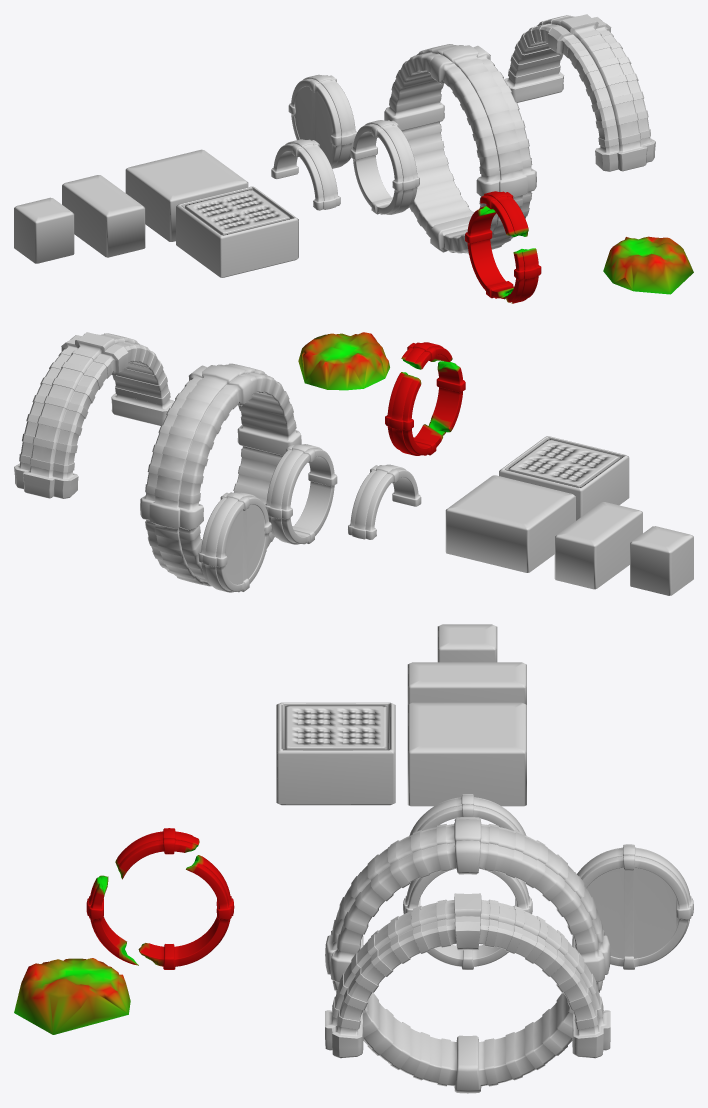
File: golemplains props.fbx
3 views of the same model, one above another, from view 1: azimuth 30°, elevation 25°; view 2: azimuth 150°, elevation 25°; view 3: azimuth 270°, elevation 25° (orthographic). The views are drawn at different scales.
Parts seen in each view (by area): view 1: GPRuinRing2, GPRuinRing2Half_LOD0, GPRuinGrate, GPRuinBlockFull, GPRuinBlockHalf, GPRuinRing1, GPRuinCircle1, GPMeshBlender1, GPRuinBlockQuarter, GPRuinRing1Half, GPRuinRing1Shattered2, GPRuinRing1Shattered3 (+1 smaller); view 2: GPRuinRing2, GPRuinRing2Half_LOD0, GPRuinBlockFull, GPRuinGrate, GPRuinCircle1, GPRuinBlockHalf, GPRuinRing1, GPMeshBlender1, GPRuinBlockQuarter, GPRuinRing1Half, GPRuinRing1Shattered2, GPRuinRing1Shattered3 (+1 smaller); view 3: GPRuinRing2, GPRuinRing2Half_LOD0, GPRuinGrate, GPRuinBlockFull, GPRuinCircle1, GPMeshBlender1, GPRuinBlockHalf, GPRuinRing1Shattered2, GPRuinRing1, GPRuinBlockQuarter, GPRuinRing1Half, GPRuinRing1Shattered1 (+1 smaller).
Boxes of the visible parts, x1,y1,x2,y2 form: GPRuinRing2: (384, 44, 536, 254); GPRuinRing2Half_LOD0: (504, 14, 655, 171); GPRuinGrate: (176, 186, 298, 277); GPRuinBlockFull: (125, 149, 248, 241); GPRuinBlockHalf: (62, 175, 145, 257); GPRuinRing1: (350, 120, 419, 214); GPRuinCircle1: (288, 74, 357, 168); GPMeshBlender1: (603, 236, 693, 294); GPRuinBlockQuarter: (14, 197, 74, 263); GPRuinRing1Half: (271, 139, 340, 210); GPRuinRing1Shattered2: (465, 206, 514, 299); GPRuinRing1Shattered3: (506, 248, 541, 303); GPRuinRing2: (140, 363, 301, 586); GPRuinRing2Half_LOD0: (14, 332, 174, 498); GPRuinBlockFull: (445, 475, 575, 572); GPRuinGrate: (499, 436, 629, 520); GPRuinCircle1: (198, 492, 271, 592); GPRuinBlockHalf: (554, 502, 642, 589); GPRuinRing1: (265, 444, 337, 544); GPMeshBlender1: (298, 332, 389, 390); GPRuinBlockQuarter: (630, 526, 693, 595); GPRuinRing1Half: (348, 464, 421, 539); GPRuinRing1Shattered2: (385, 372, 442, 455); GPRuinRing1Shattered3: (428, 361, 465, 435); GPRuinRing2: (325, 817, 610, 1093); GPRuinRing2Half_LOD0: (325, 893, 610, 1058); GPRuinGrate: (276, 702, 395, 805); GPRuinBlockFull: (407, 702, 526, 806); GPRuinCircle1: (577, 844, 693, 969); GPMeshBlender1: (14, 958, 130, 1034); GPRuinBlockHalf: (407, 662, 526, 704); GPRuinRing1Shattered2: (138, 855, 234, 969); GPRuinRing1: (403, 868, 532, 969); GPRuinBlockQuarter: (437, 624, 497, 662); GPRuinRing1Half: (409, 794, 526, 835); GPRuinRing1Shattered1: (115, 828, 199, 879).
Size of what is drawn, in the model's own units: 14.68 by 4.78 by 11.39.
